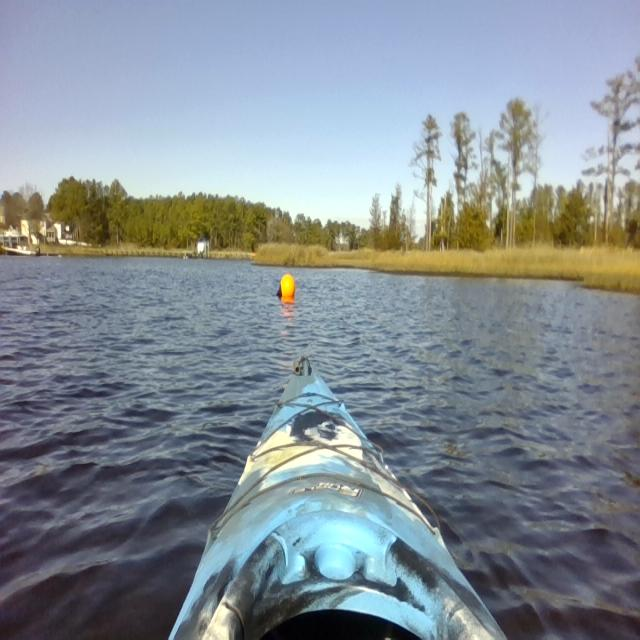Buoy: (270, 262, 300, 308)
